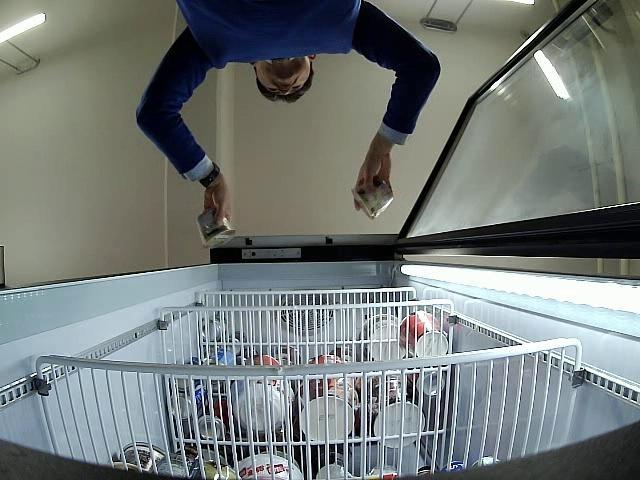04_chapagetti_S: (352, 177, 394, 219), (196, 208, 236, 250)
